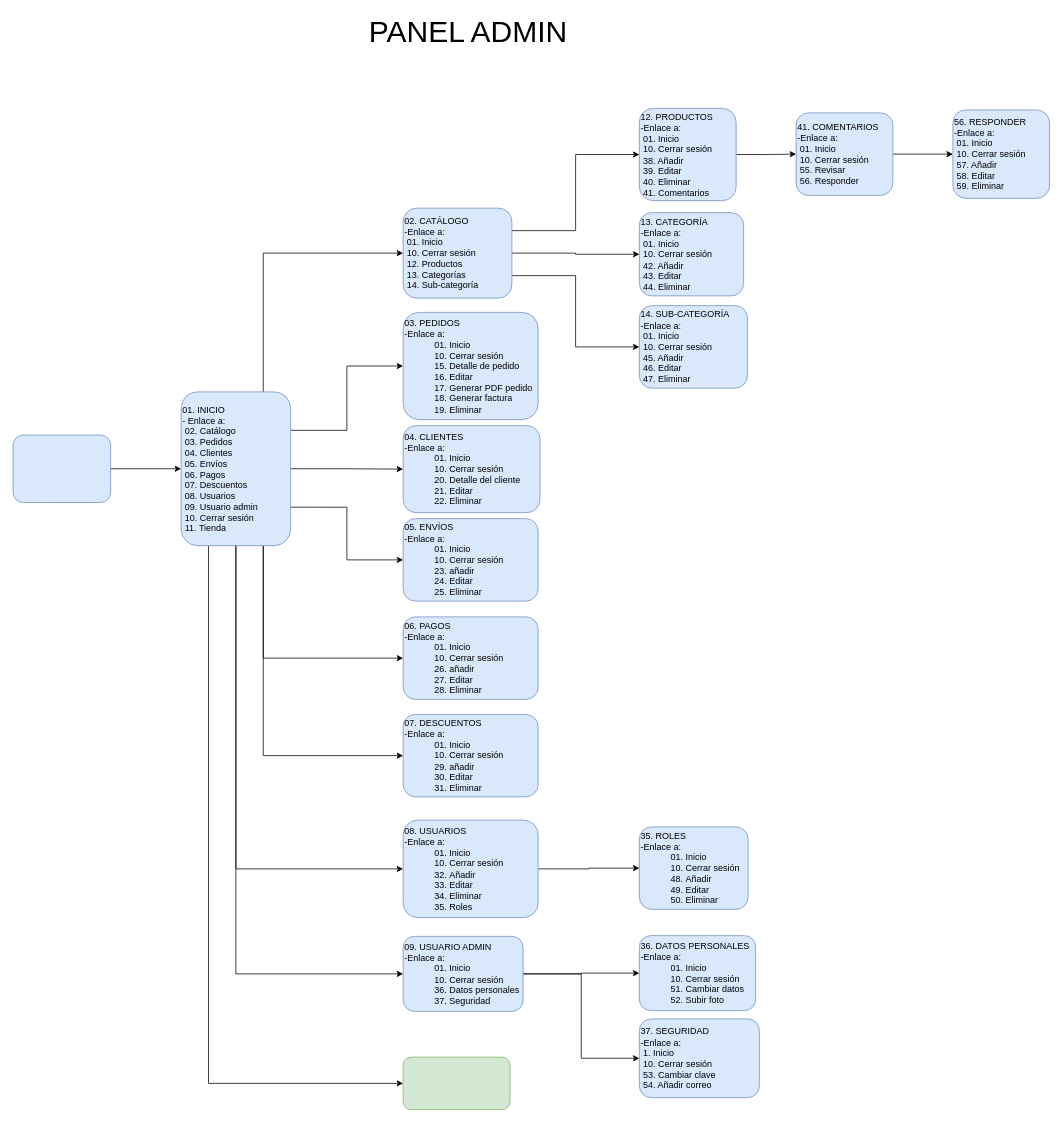
This 1063x1123 diagram has some shape labels left out. The box of each missing label's shape, as (x1, y1, x2, y2) in pixels:
00. LANDING Inicio de sesión - Redirige a: 01. Inicio: (12, 434, 111, 502)
11. TIENDA -Redirige a: 00. Landing: (402, 1056, 510, 1110)
